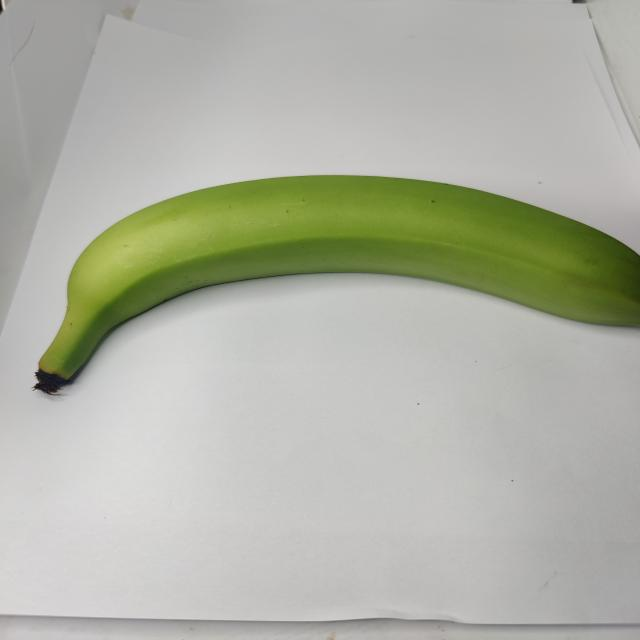raw: (13, 130, 640, 409)
